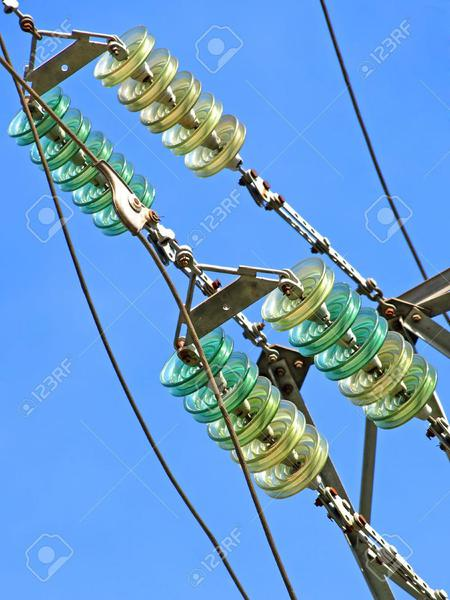isolator: (159, 255, 439, 501), (6, 24, 247, 237)
